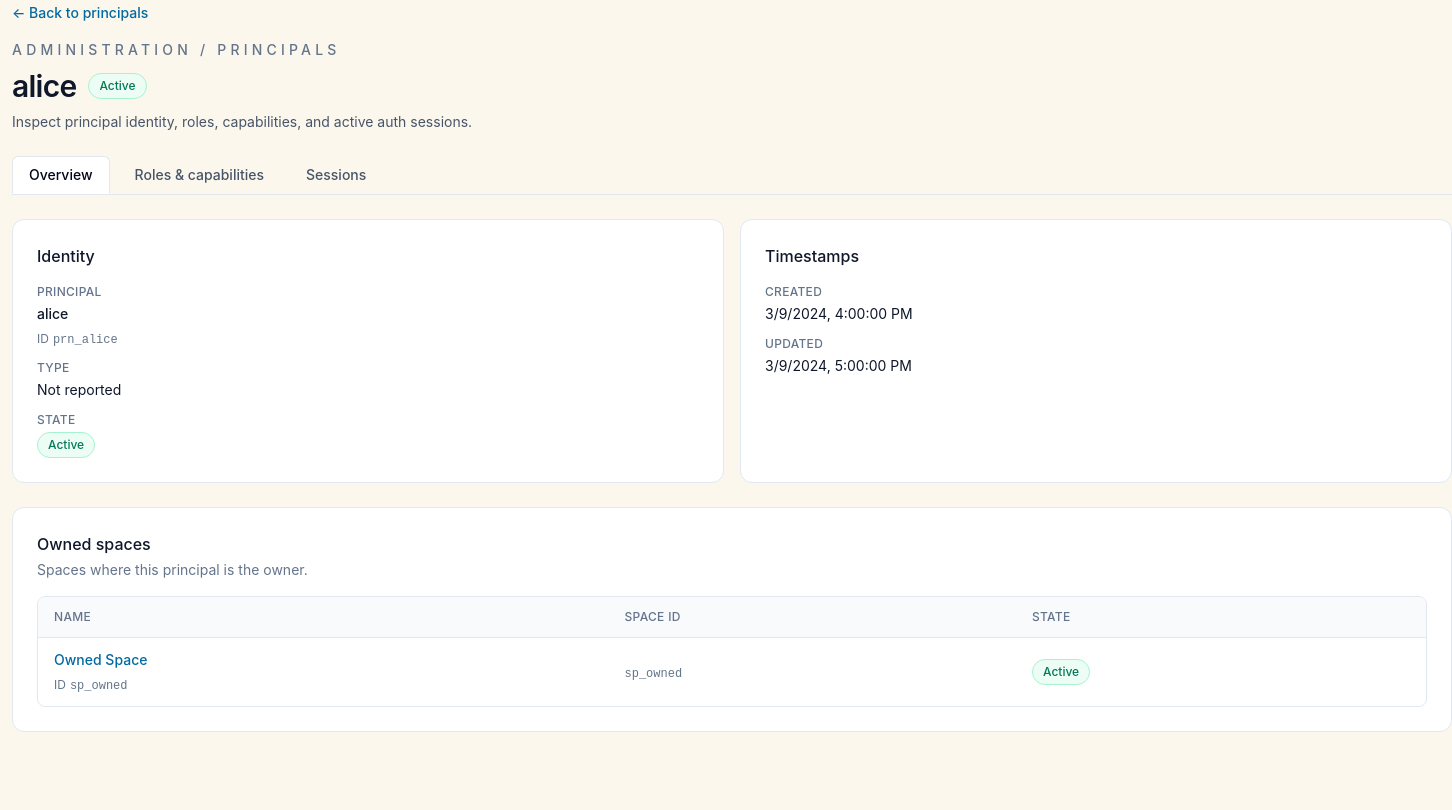
Test case: keeps principal detail readable while hiding session revocation without manage capability
Expected: the heading "alice" is shown, [12, 68, 76, 104]
Click the tab "Sessions".
click(336, 175)  # box [289, 156, 383, 194]
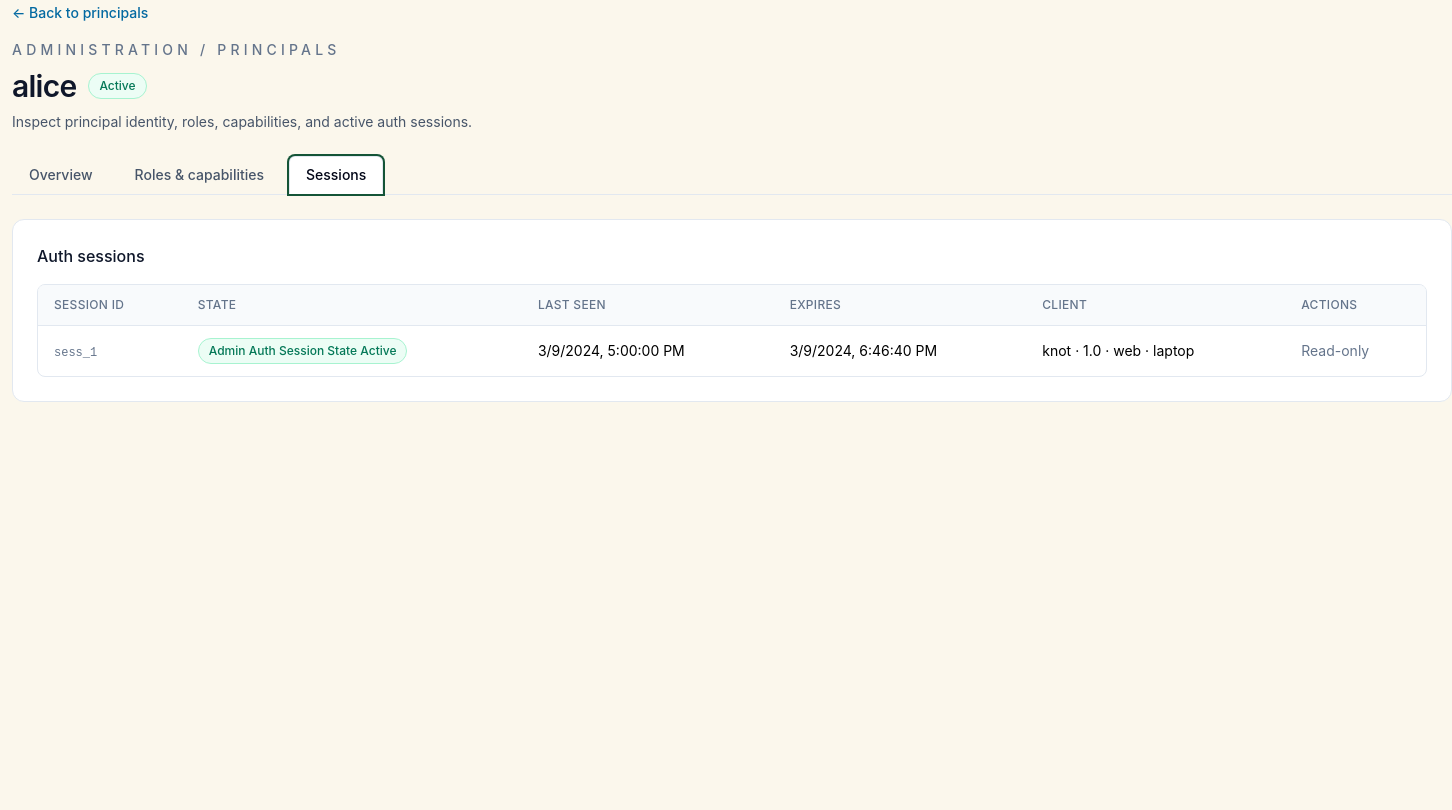
Result: the text "sess_1" is shown at [54, 346, 97, 360]
Result: the text "Read-only" is shown at [1301, 342, 1369, 359]
